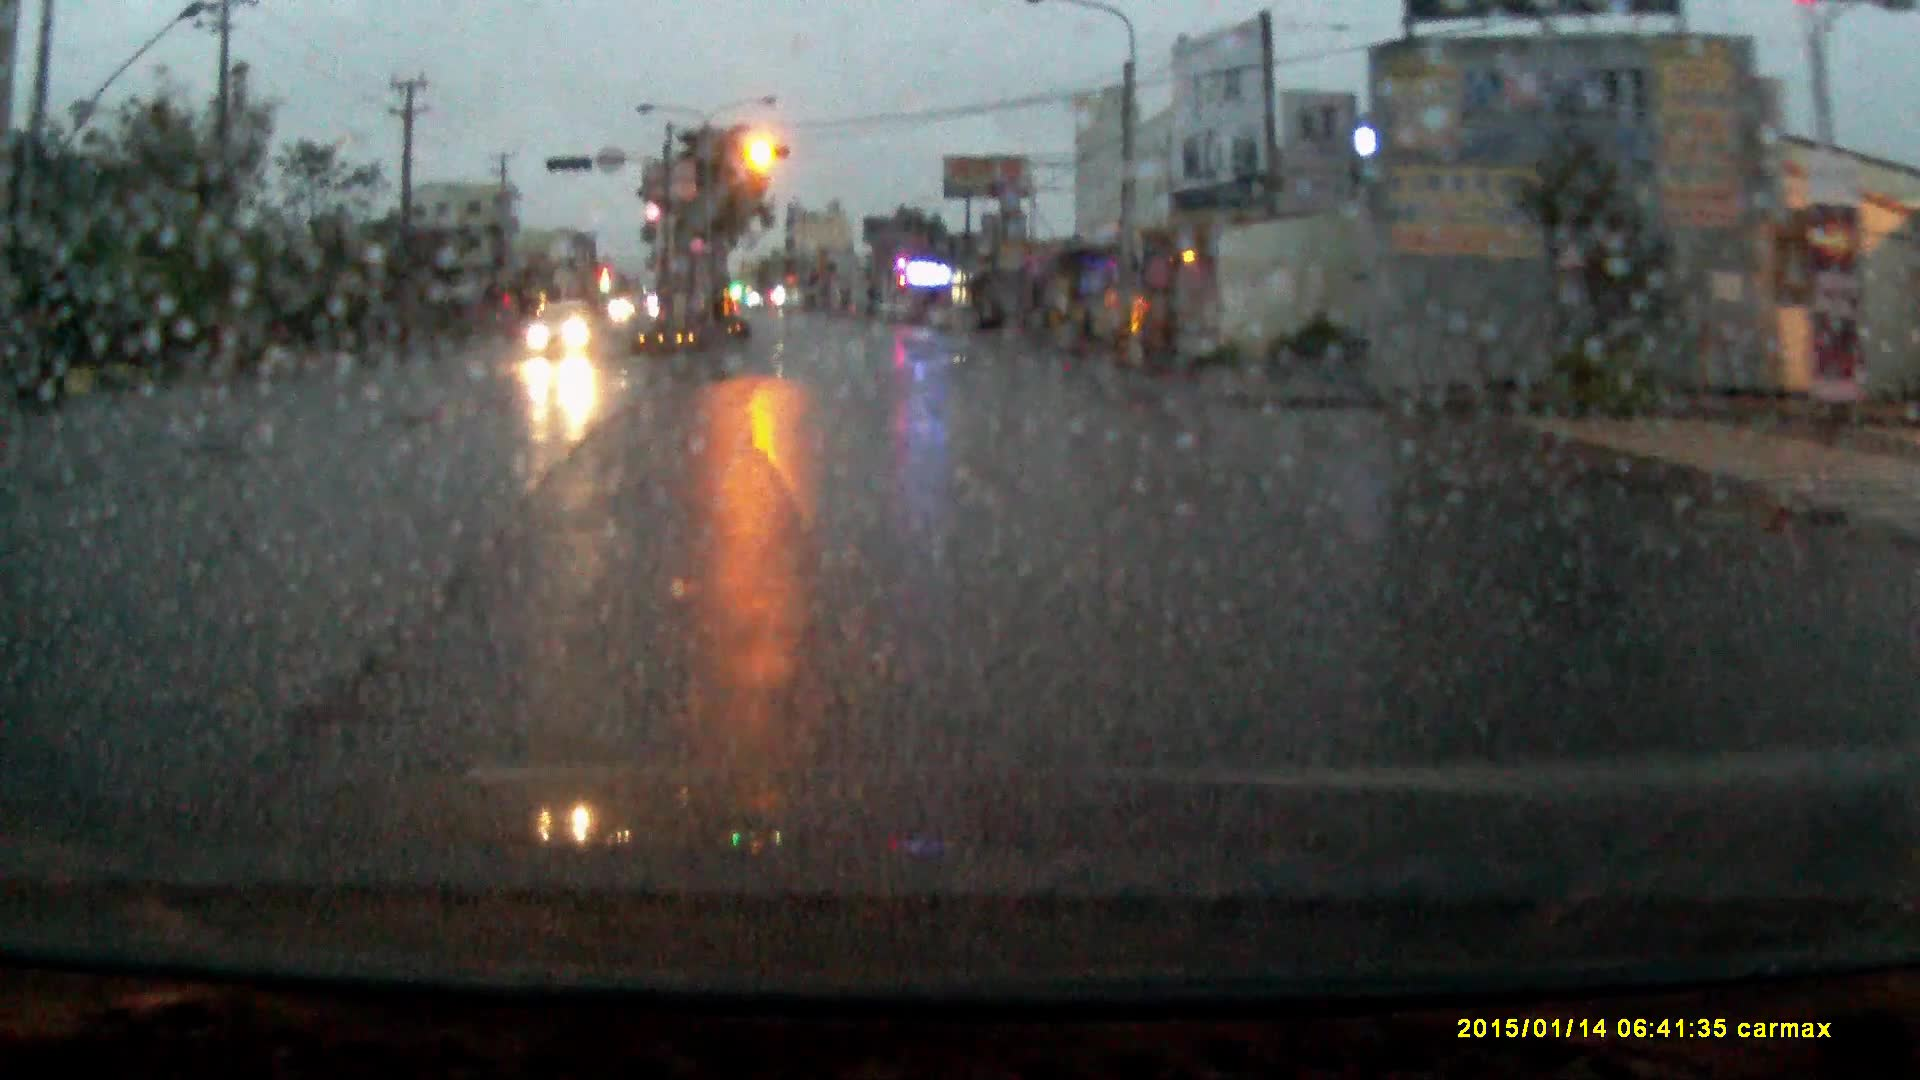vehicle: (524, 303, 603, 363)
